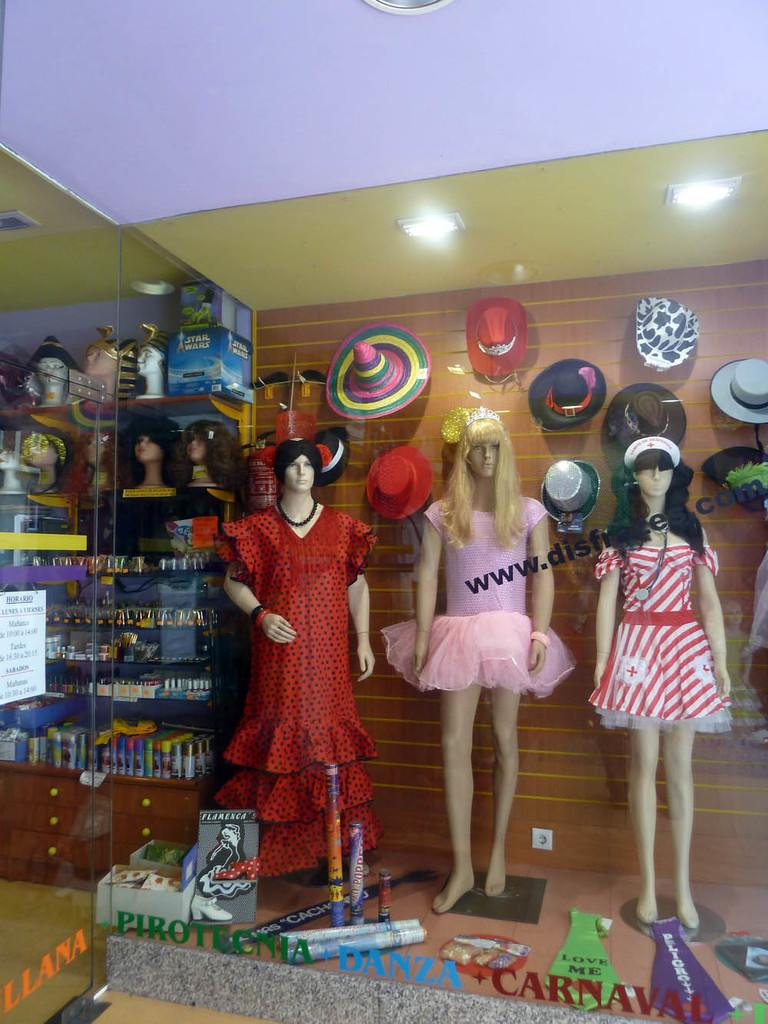Hat: (322, 322, 429, 416), (516, 354, 606, 428), (598, 385, 684, 452), (364, 440, 432, 522), (536, 459, 604, 538), (464, 298, 527, 378), (633, 295, 700, 369), (706, 356, 766, 424)
